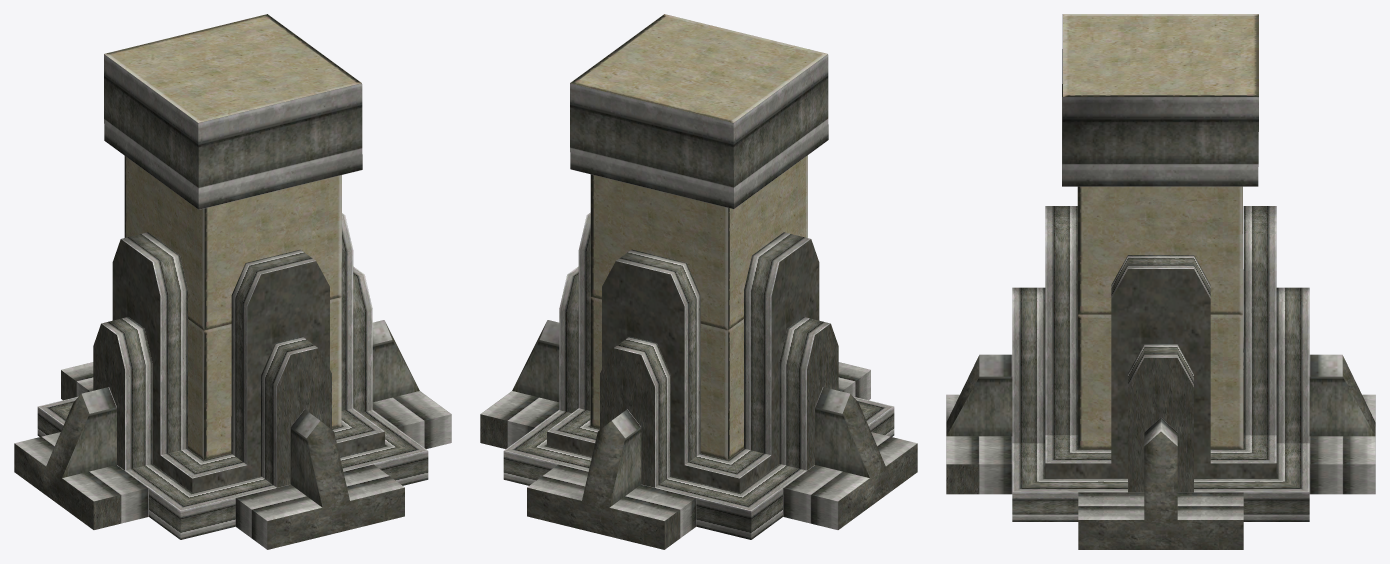
The model's file is DWARF_PALACE_MAINHALL_COLUMN_DEBREE03.fbx.
3 views of the same model, side by side, from view 1: azimuth 30°, elevation 25°; view 2: azimuth 150°, elevation 25°; view 3: azimuth 270°, elevation 25° (orthographic). The views are drawn at different scales.
Parts seen in each view (by area): view 1: DWARF_PALACE_MAINHALL_COLUMN_DEBREE03; view 2: DWARF_PALACE_MAINHALL_COLUMN_DEBREE03; view 3: DWARF_PALACE_MAINHALL_COLUMN_DEBREE03.
Part boxes in pixels (<box>): DWARF_PALACE_MAINHALL_COLUMN_DEBREE03: <box>14,14,451,549</box>; DWARF_PALACE_MAINHALL_COLUMN_DEBREE03: <box>480,14,917,549</box>; DWARF_PALACE_MAINHALL_COLUMN_DEBREE03: <box>946,14,1375,549</box>.
Size of the model in its own units: 52000 by 54000 by 52000.
Materials: 5 (5 with a texture image).
